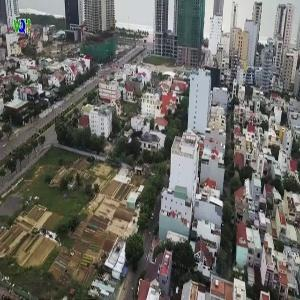drone: (104, 104, 166, 166)
